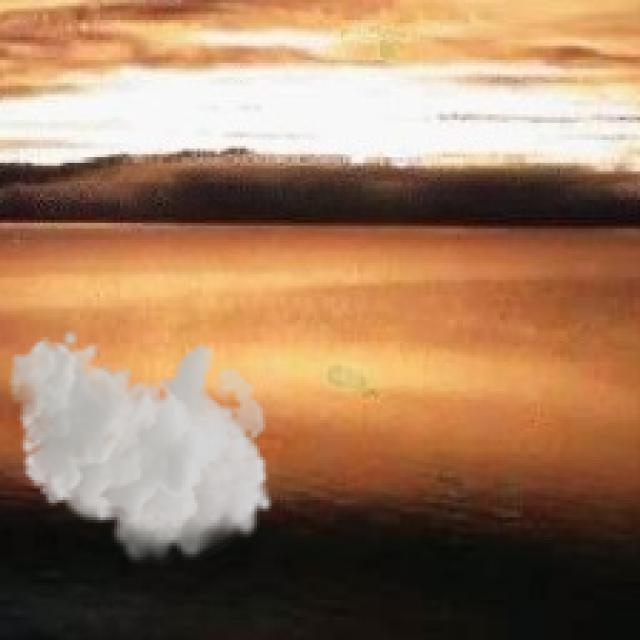smoke: (9, 328, 274, 568)
